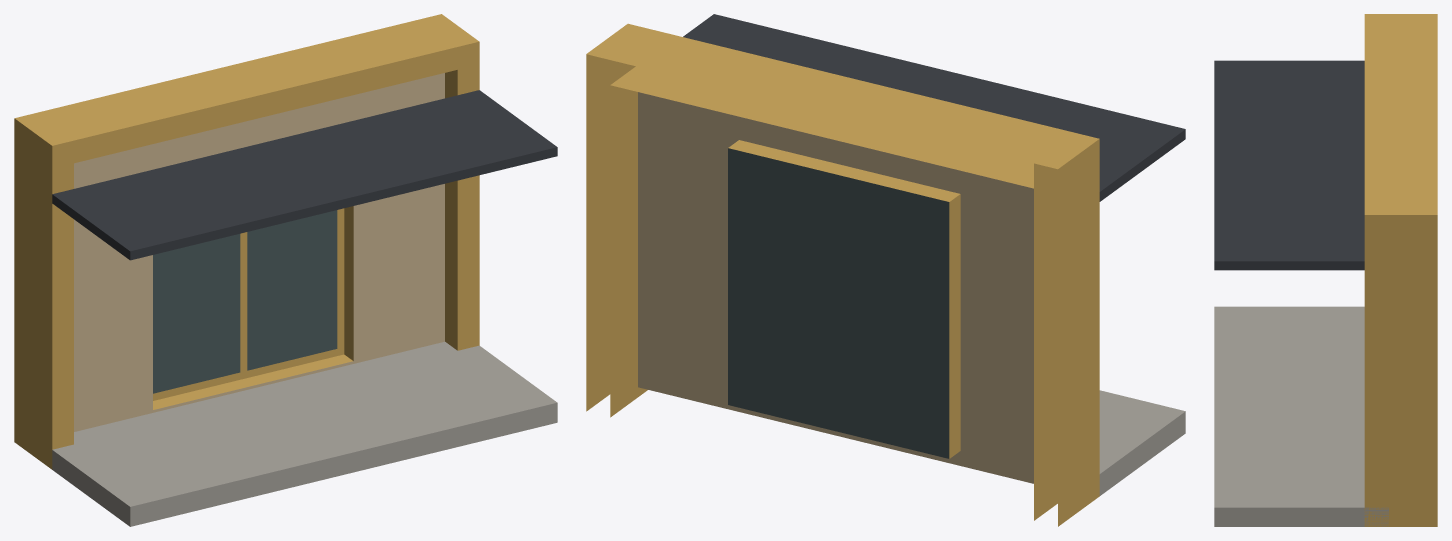
Rendered from entrance.fbx.
3 renders of one model, left to right at view 1: azimuth 30°, elevation 25°; view 2: azimuth 150°, elevation 25°; view 3: azimuth 270°, elevation 25°, orthographic. The views are drawn at different scales.
Parts seen in each view (by area): view 1: a2019/750/entrance; view 2: a2019/750/entrance; view 3: a2019/750/entrance.
Part boxes in pixels (left/top/right/bottom): a2019/750/entrance: left=14, top=14, right=557, bottom=526; a2019/750/entrance: left=586, top=14, right=1185, bottom=526; a2019/750/entrance: left=1214, top=14, right=1437, bottom=526.
Bounding box in the file's own units: 4.9 × 3.55 × 2.3.
